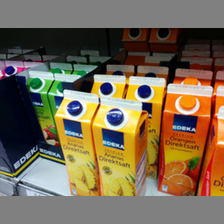juice: (155, 84, 214, 195), (91, 95, 150, 195), (53, 88, 101, 195)
